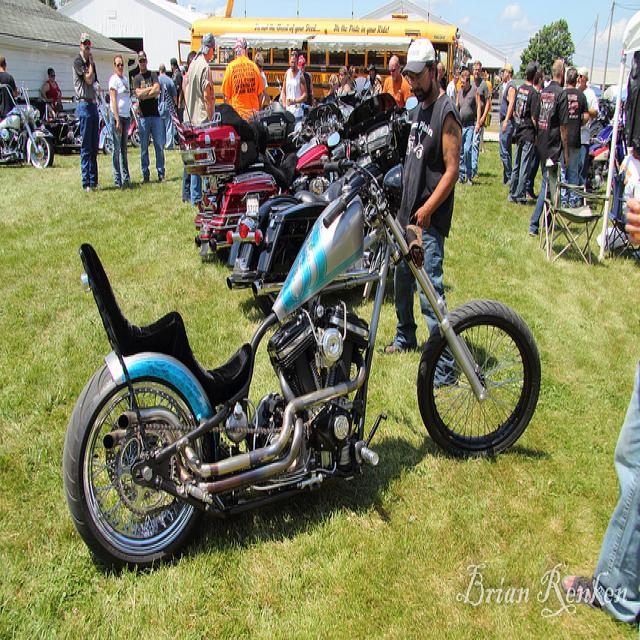motor: (63, 172, 542, 566), (251, 89, 415, 308), (163, 86, 342, 266), (226, 130, 344, 291), (1, 79, 58, 175), (41, 102, 81, 149), (588, 138, 619, 190), (97, 93, 113, 155), (127, 86, 142, 148)
